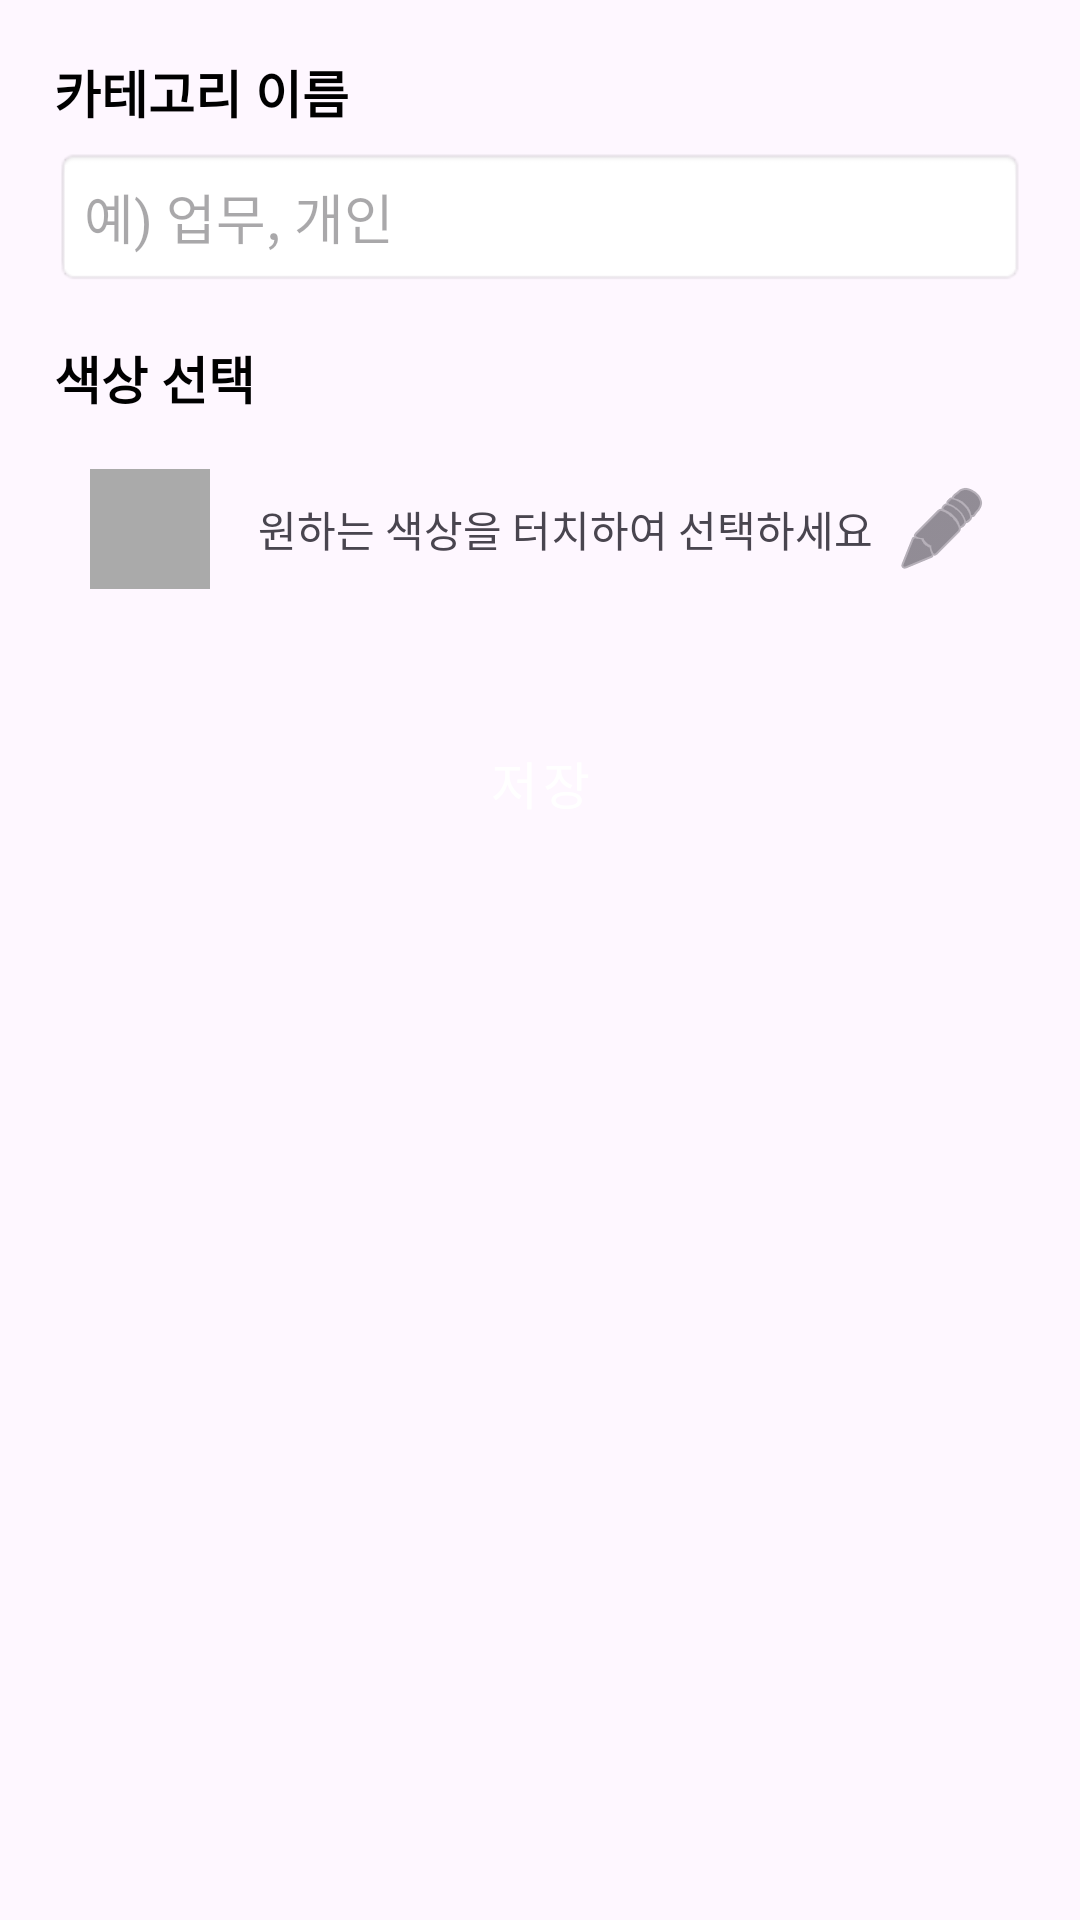

Where to tap for icons on this 1080×1920 app screen, as point (x, y):
edit: point (941, 528)
